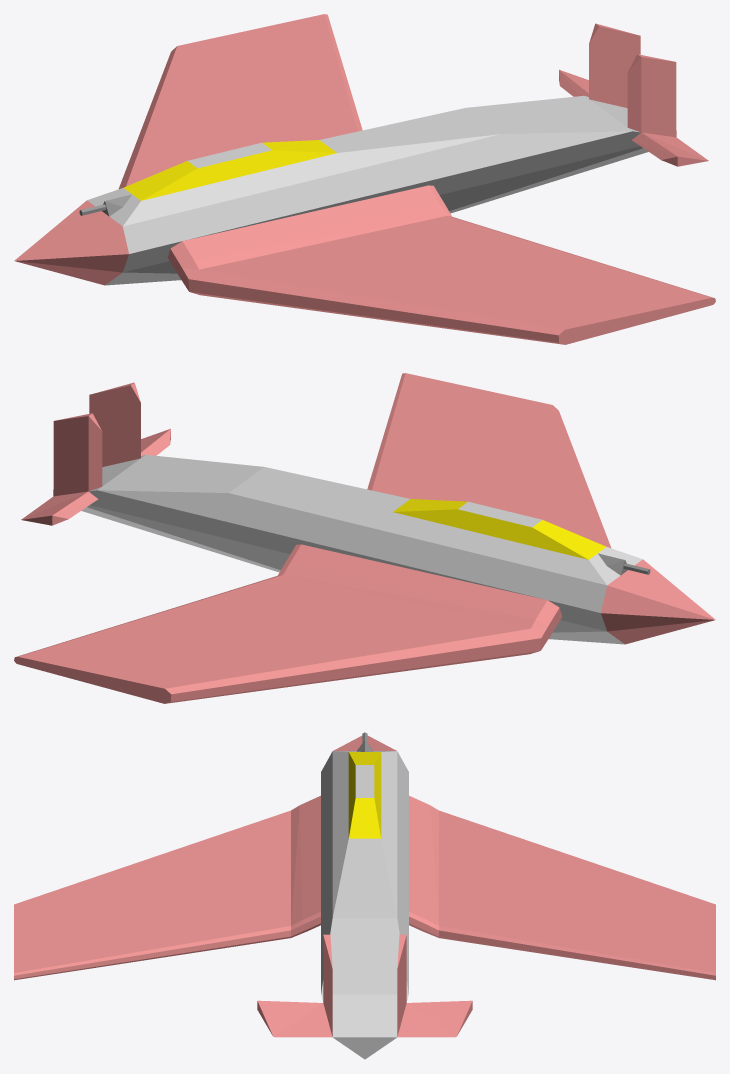
Rendered from SP Albatross.fbx.
The picture shows the model from 3 angles, top to bottom: view 1: azimuth 30°, elevation 25°; view 2: azimuth 150°, elevation 25°; view 3: azimuth 270°, elevation 25°; orthographic projection. The views are drawn at different scales.
Visible parts, largest first — view 1: SP Albatross; view 2: SP Albatross; view 3: SP Albatross.
Part boxes in pixels (x1,y1,x2,y2): SP Albatross: (14,14,715,344); SP Albatross: (14,373,715,703); SP Albatross: (14,732,715,1059).
Size of the model in its own units: 1810 by 391 by 1885.
